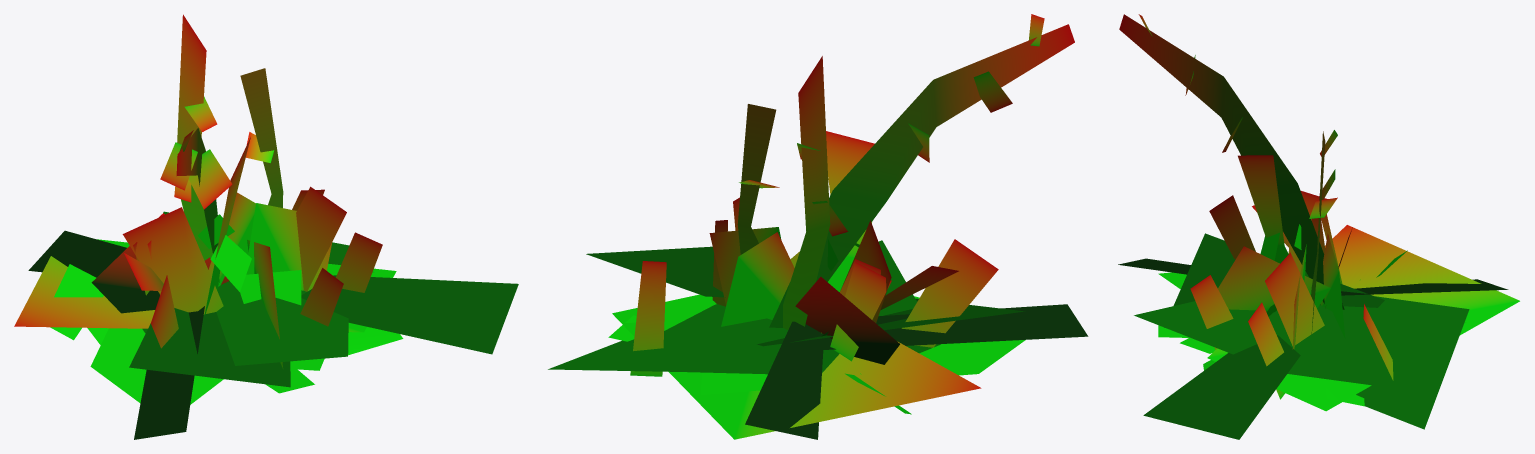
File: DrySet01_Var6_LOD1.fbx
3 renders of one model, left to right at view 1: azimuth 30°, elevation 25°; view 2: azimuth 150°, elevation 25°; view 3: azimuth 270°, elevation 25°, orthographic. The views are drawn at different scales.
Visible parts, largest first — view 1: DrySet01_Var6_LOD1; view 2: DrySet01_Var6_LOD1; view 3: DrySet01_Var6_LOD1.
Part boxes in pixels (x1,y1,x2,y2): DrySet01_Var6_LOD1: (14,14,518,439); DrySet01_Var6_LOD1: (548,14,1088,439); DrySet01_Var6_LOD1: (1118,14,1519,439).
Size of the model in its own units: 71.08 by 53.42 by 61.99.
